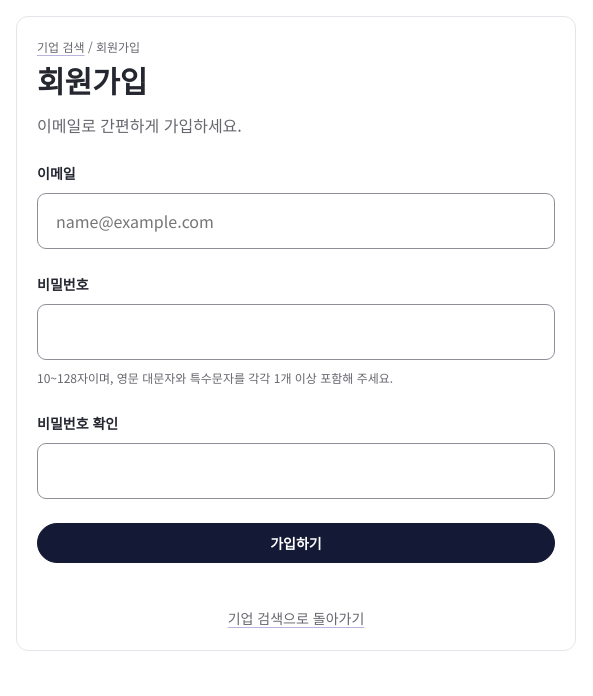
Scenario: 회원가입 화면 › 중복 이메일을 입력 아래 표시하고 수정할 수 있게 한다
The width and height of the screenshot is (593, 696).
Type "Member@Example.COM" into the field labelled "이메일" at (296, 221), box [37,193,555,249]
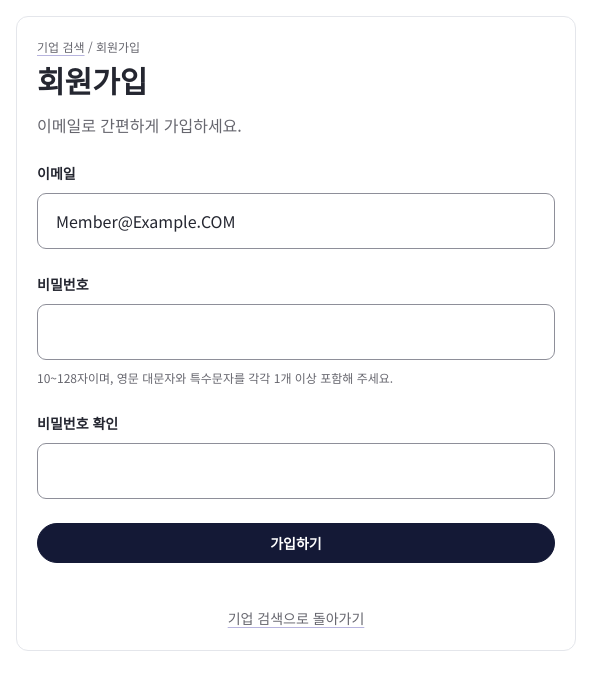
Type "Sample!password" into the password field labelled "비밀번호" at (296, 332), box [37,304,555,360]
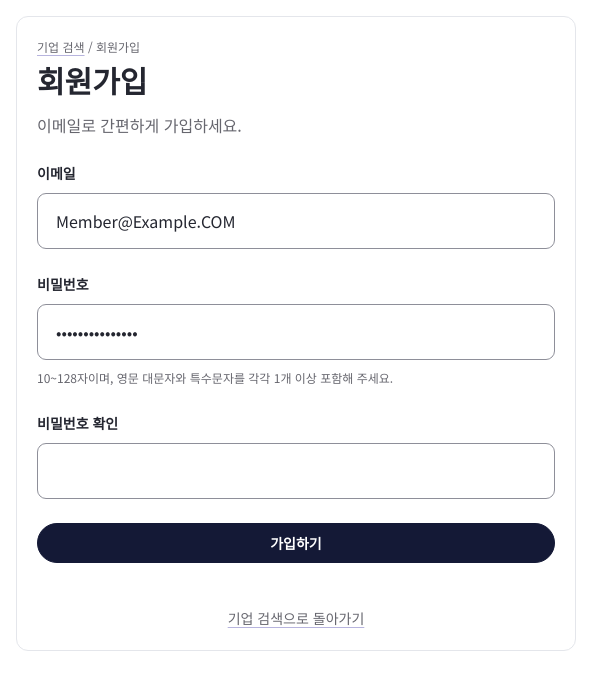
Type "Sample!password" into the password field labelled "비밀번호 확인" at (296, 471), box [37,443,555,499]
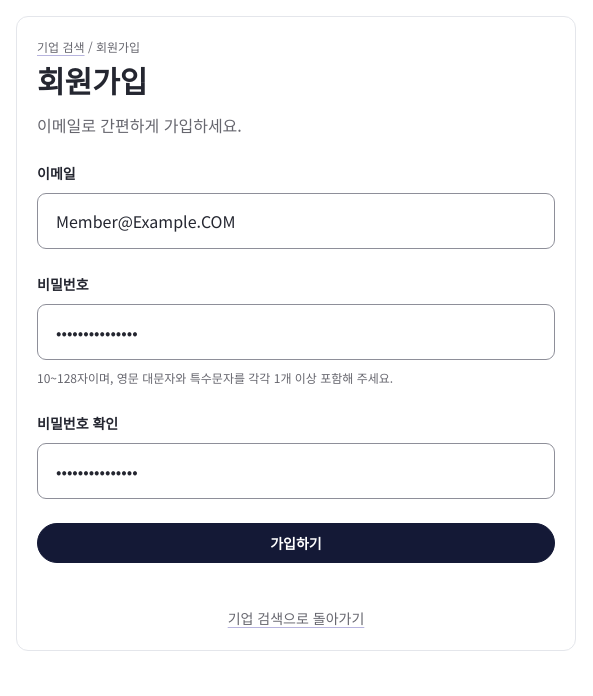
Click the button "가입하기" at (296, 543), box [37,523,555,563]
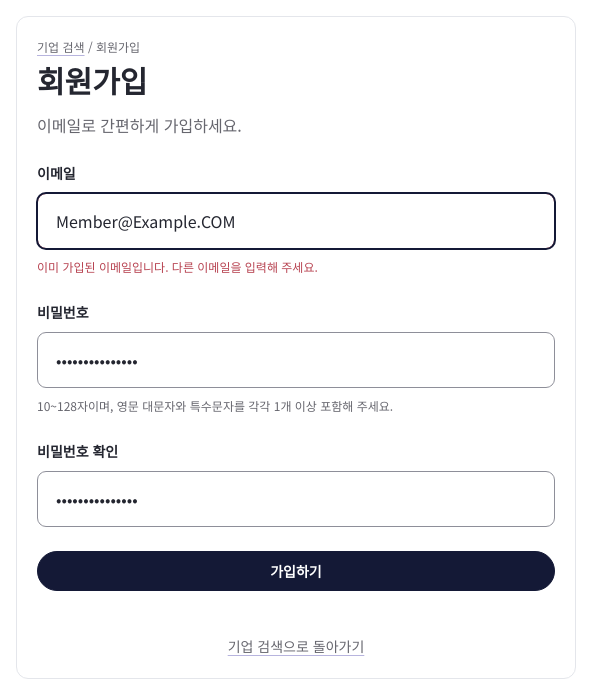
Expected: the field labelled "이메일" is enabled, [37,193,555,249]
Now the text "이미 가입된 이메일입니다. 다른 이메일을 입력해 주세요." is shown, box [37,258,318,275]
